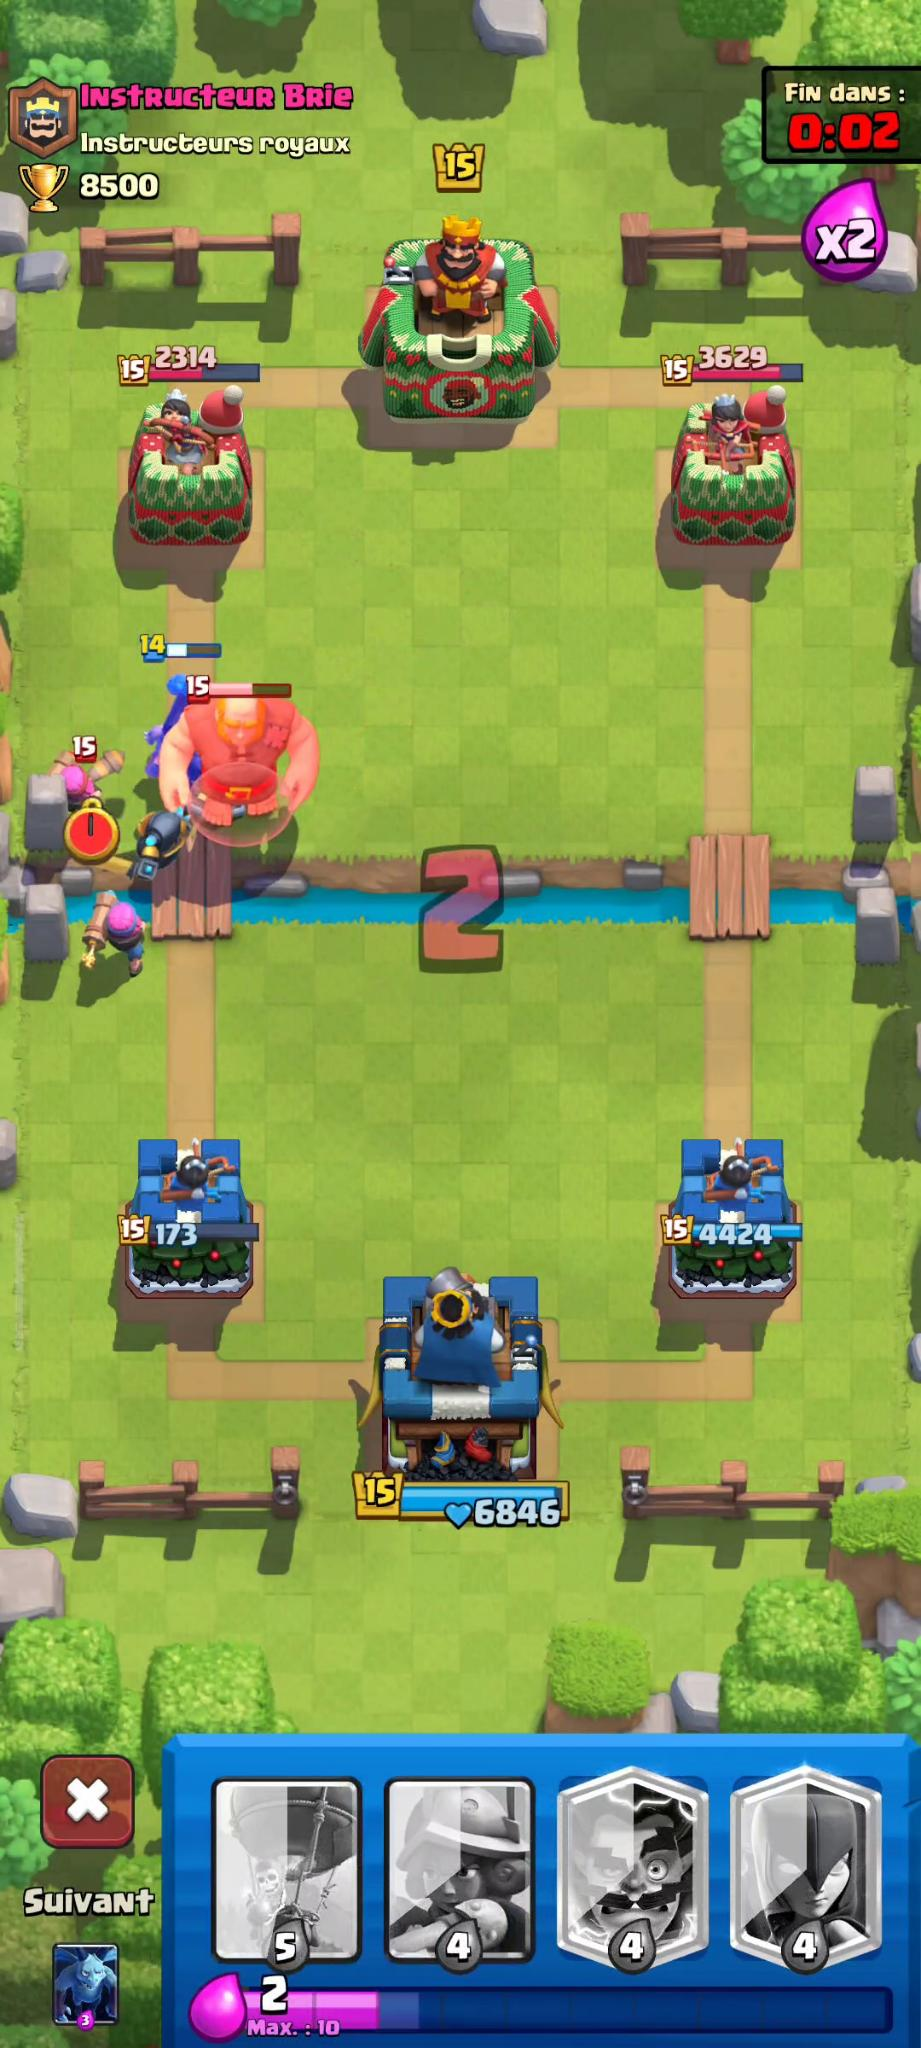geant: (152, 674, 323, 835)
mini_PEKKA: (112, 801, 199, 884)
